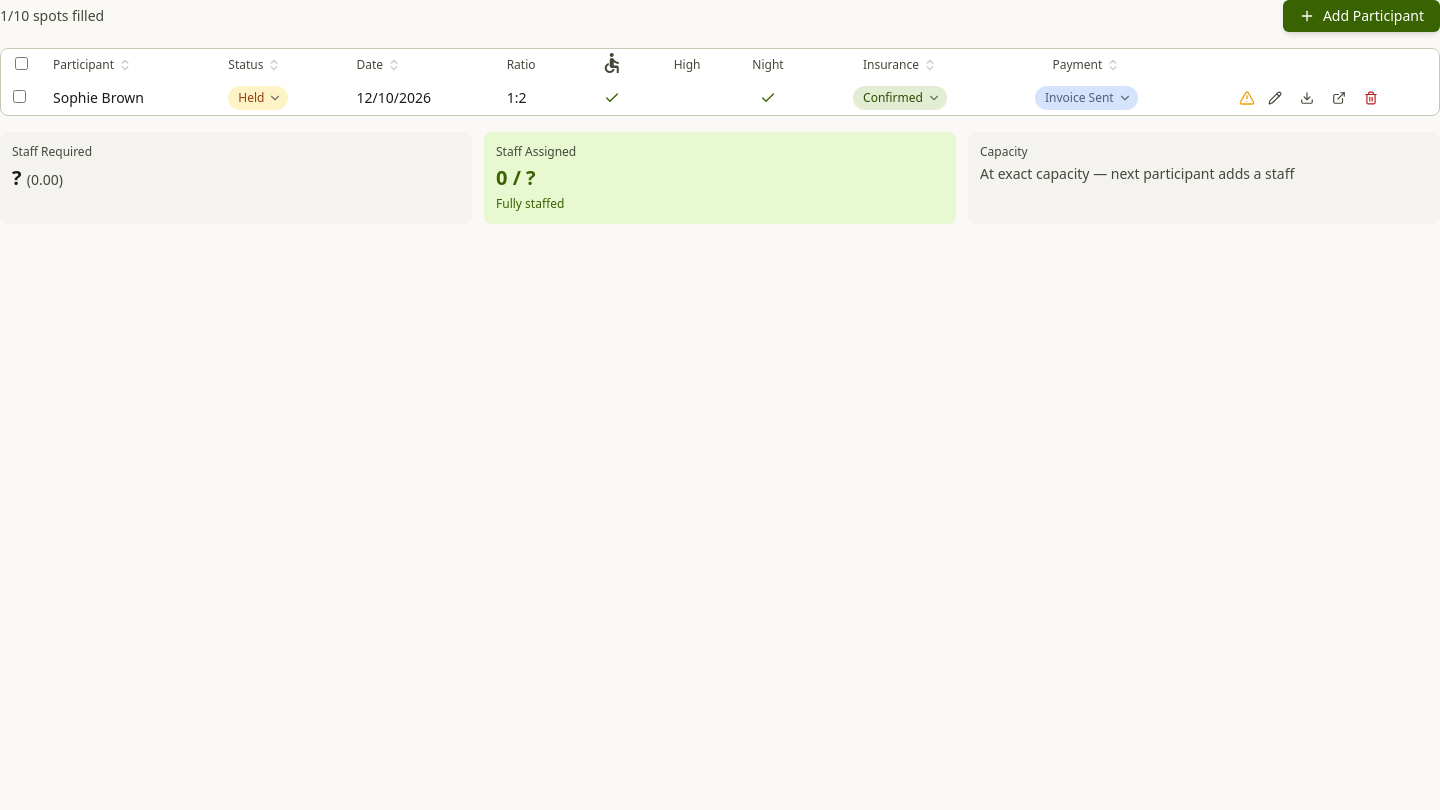
Scenario: BookingsTab — editing a booking keeps the details the list row does not carry › a refused save shows the error and keeps what was typed
This screenshot has width=1440, height=810.
Click the button titled "Edit booking" at (1275, 98), box [1263,86,1287,110]
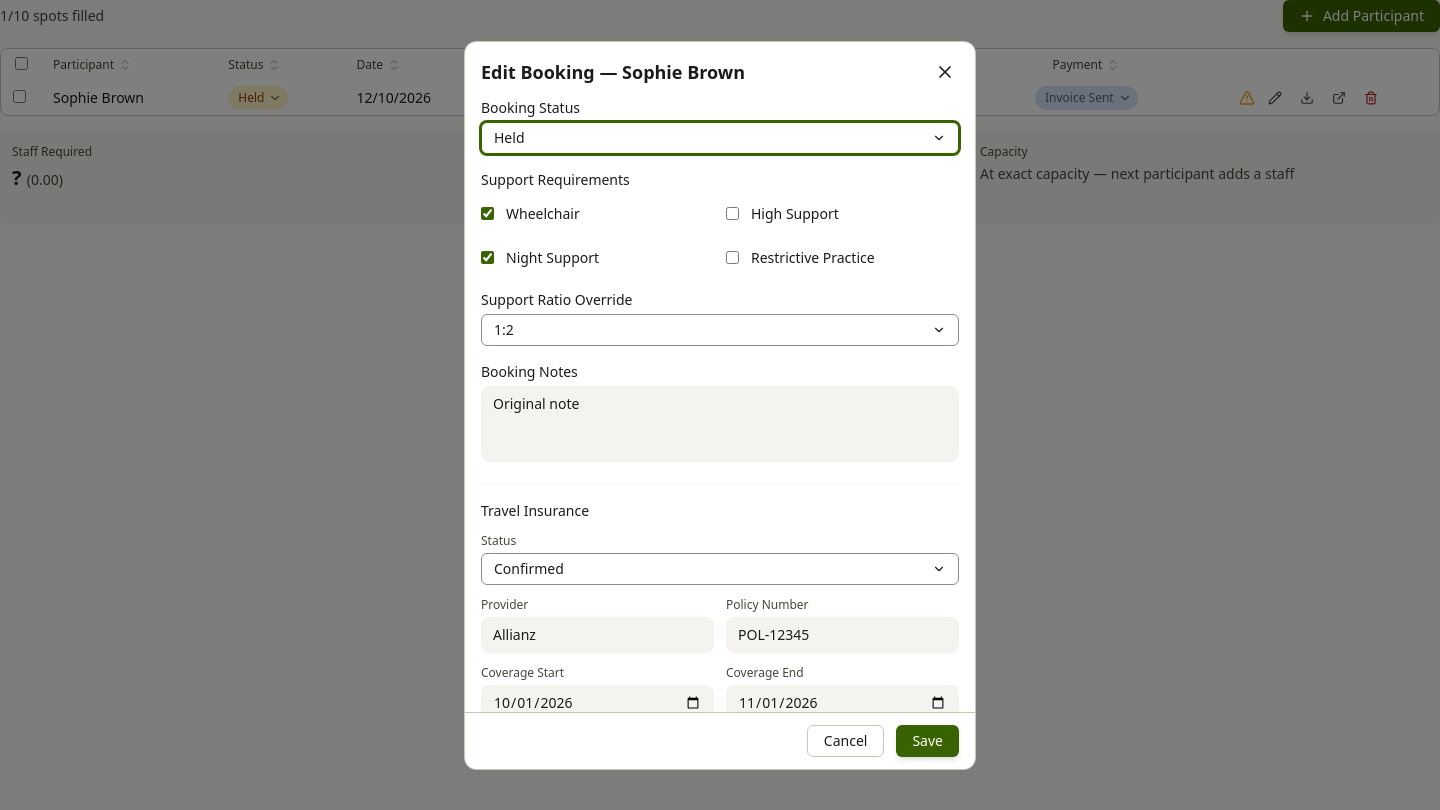
Replace the text in the text box with placeholder "Optional notes..." with "Changed note" at (720, 424), box [481,386,959,462]
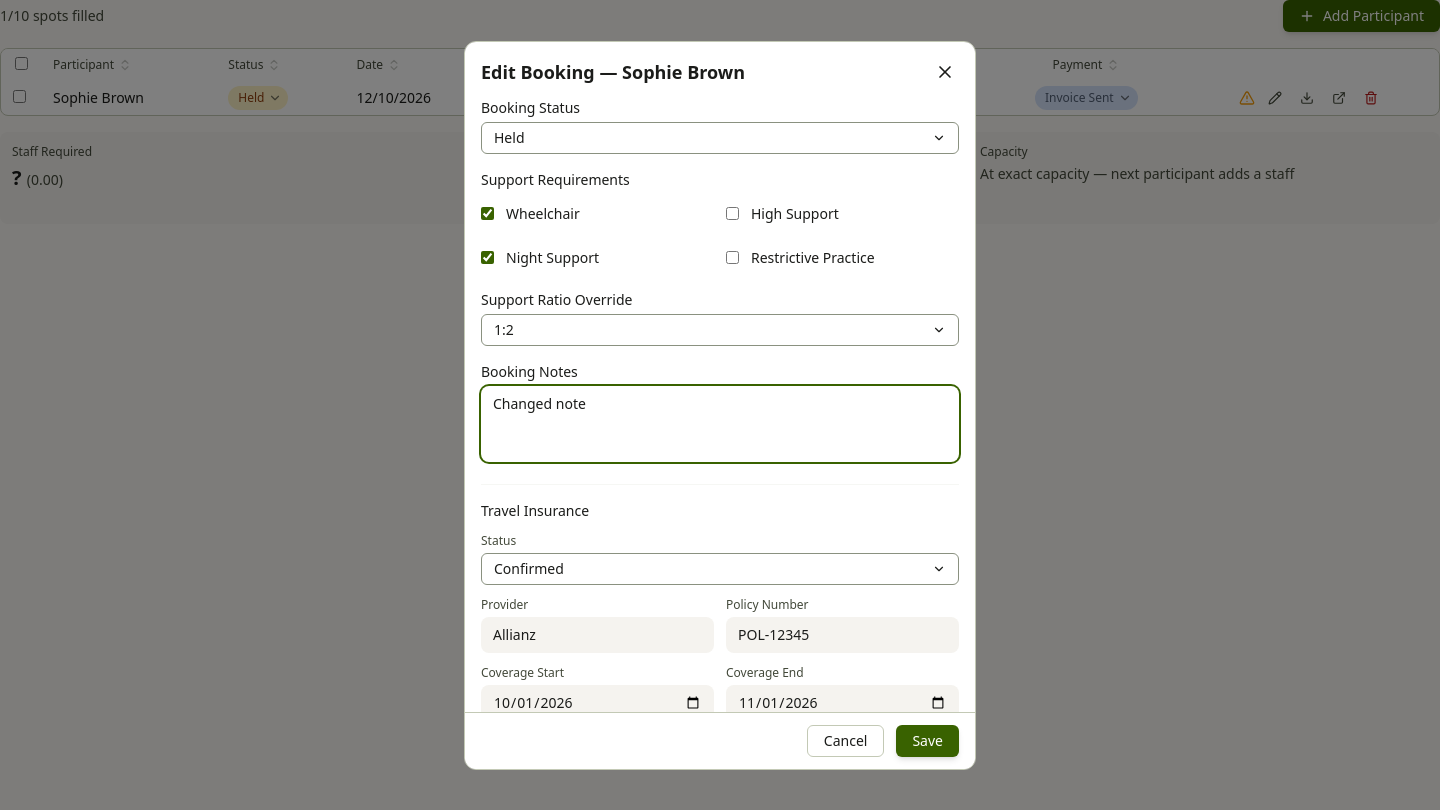
Click the button "Save" at (928, 740), box [896,724,959,756]
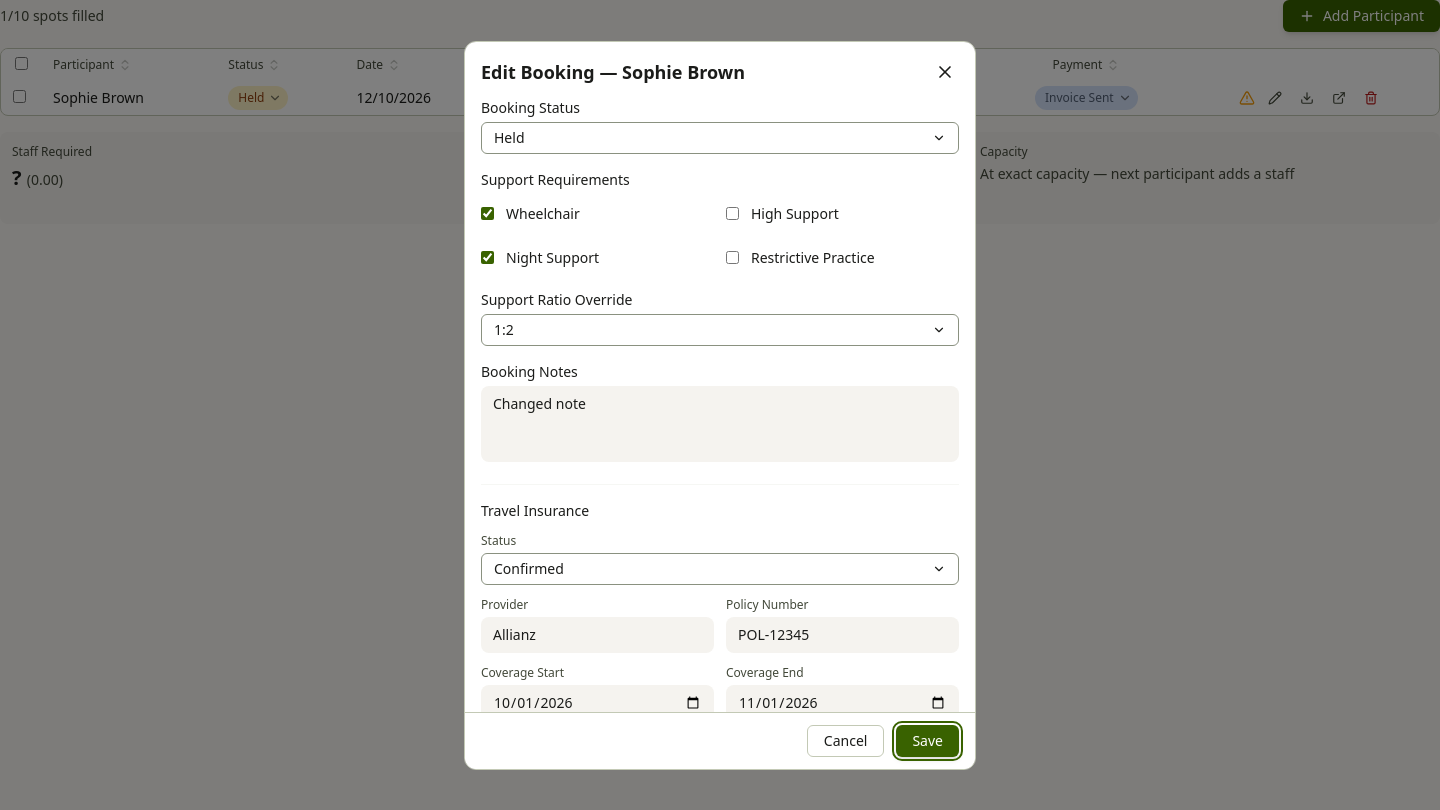
expect the text "Couldn't update this booking. Check your connection and try again." is shown: met, box [481,736,959,756]
